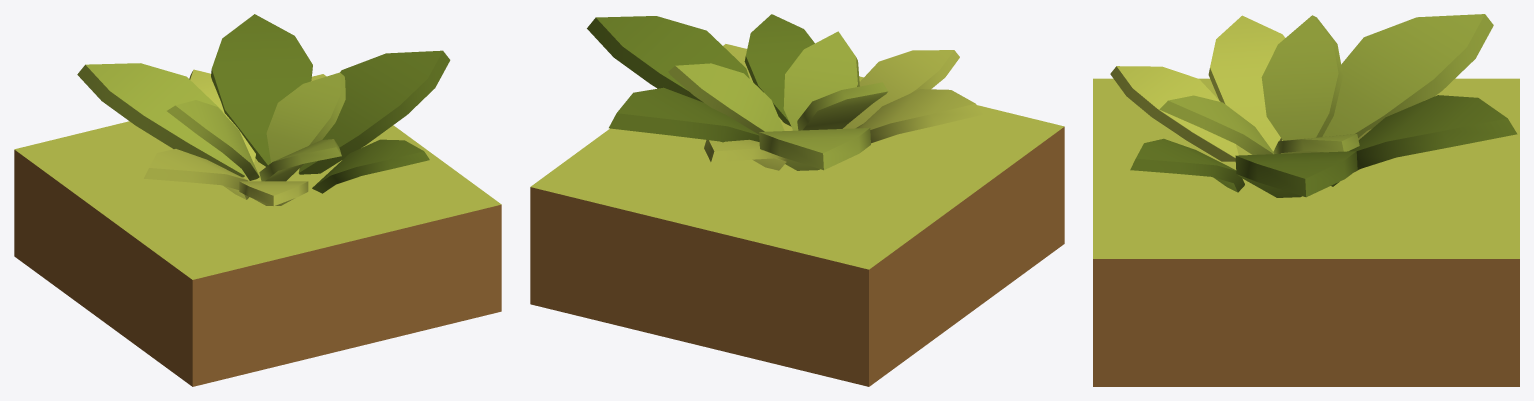
The model's file is floor_grass.fbx.
3 renders of one model, left to right at view 1: azimuth 30°, elevation 25°; view 2: azimuth 150°, elevation 25°; view 3: azimuth 270°, elevation 25°, orthographic. The views are drawn at different scales.
Parts seen in each view (by area): view 1: floor_grass; view 2: floor_grass; view 3: floor_grass.
Boxes of the visible parts, bbox=[...] form: floor_grass: bbox=[14, 14, 501, 386]; floor_grass: bbox=[530, 14, 1064, 386]; floor_grass: bbox=[1093, 14, 1519, 386].
Size of the model in its own units: 112 by 100 by 60.67.
